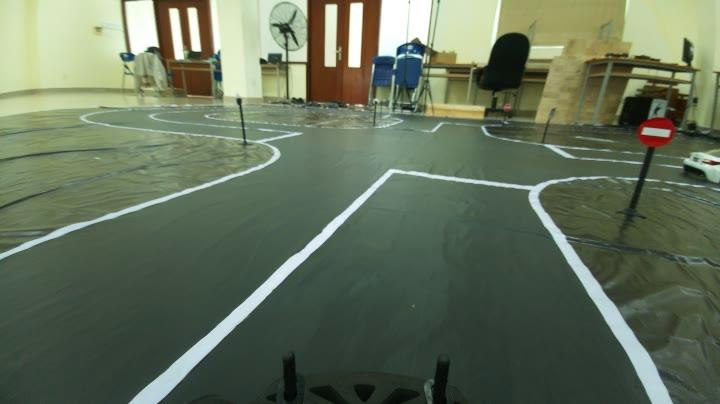no_entry: (636, 110, 684, 151)
